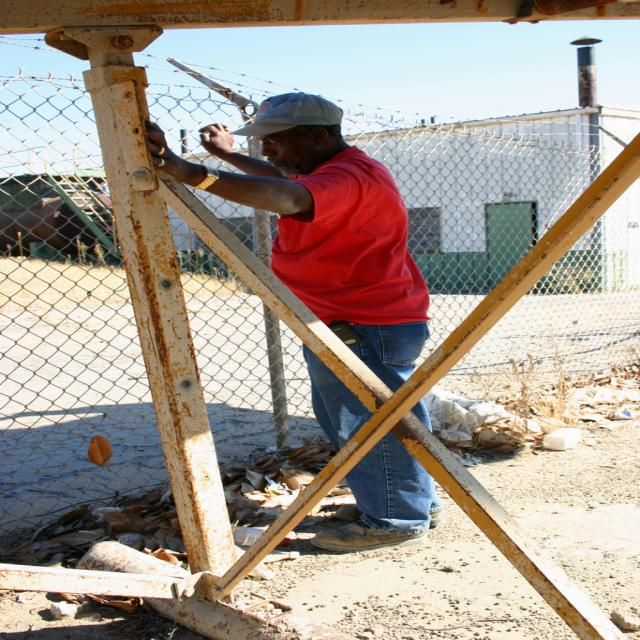Hat: (231, 92, 342, 138)
